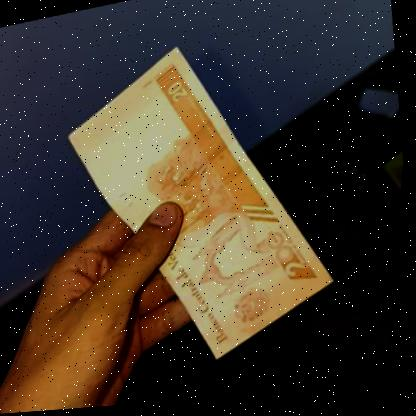twenty-back-vef: (41, 17, 363, 399)
